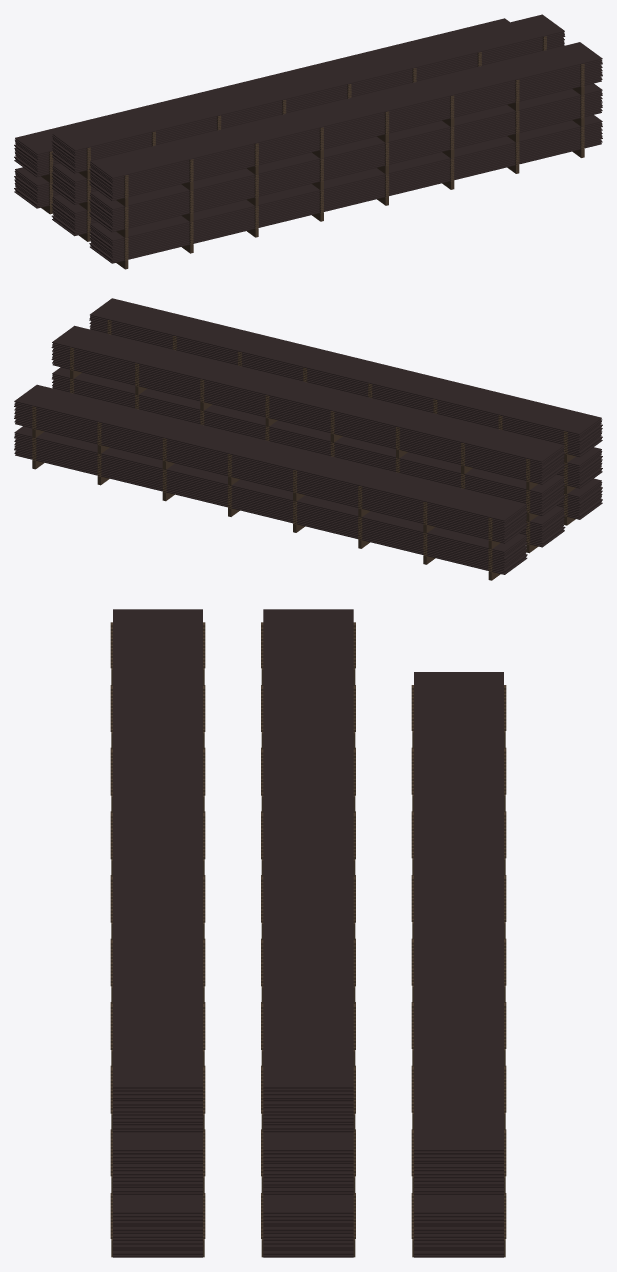
File: s_steel_factory_metal_storage_02.dae
3 renders of one model, top to bottom at view 1: azimuth 30°, elevation 25°; view 2: azimuth 150°, elevation 25°; view 3: azimuth 270°, elevation 25°, orthographic. The views are drawn at different scales.
Parts seen in each view (by area): view 1: s_metal_20m_storage2_a80; view 2: s_metal_20m_storage2_a80; view 3: s_metal_20m_storage2_a80.
Part boxes in pixels (x1,y1,x2,y2): s_metal_20m_storage2_a80: (14,14,602,269); s_metal_20m_storage2_a80: (14,298,602,580); s_metal_20m_storage2_a80: (110,609,506,1257).
Bounding box in the file's own units: 15.08 × 5.26 × 2.76.
